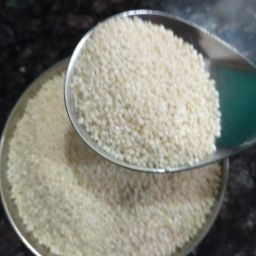Barnyard Millet(samak): (44, 55, 228, 249), (5, 62, 178, 256), (34, 72, 210, 226), (75, 12, 226, 184), (10, 113, 187, 254)
